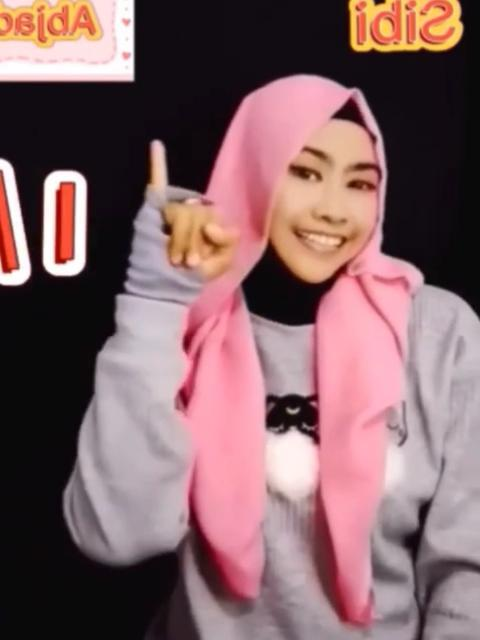I: (128, 142, 244, 294)
